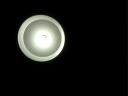window: (0, 6, 34, 96), (40, 78, 66, 96), (41, 40, 63, 59), (87, 86, 104, 96), (89, 60, 95, 71)
